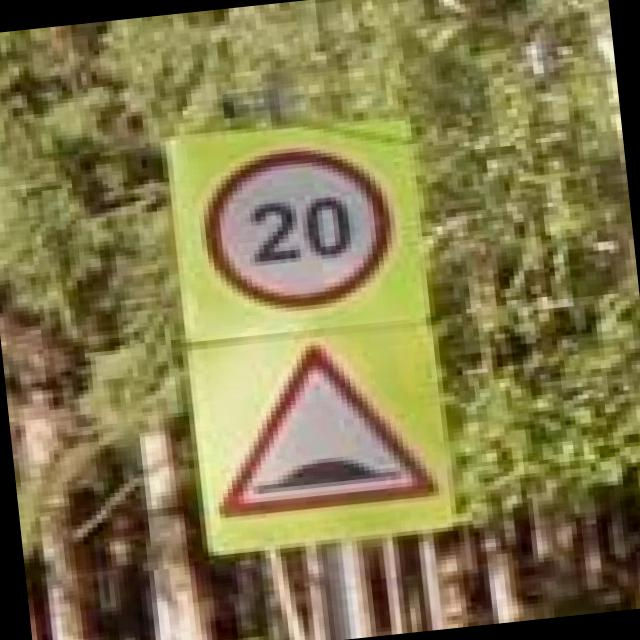Ograniczenie predkosci do 20: (192, 134, 402, 320)
